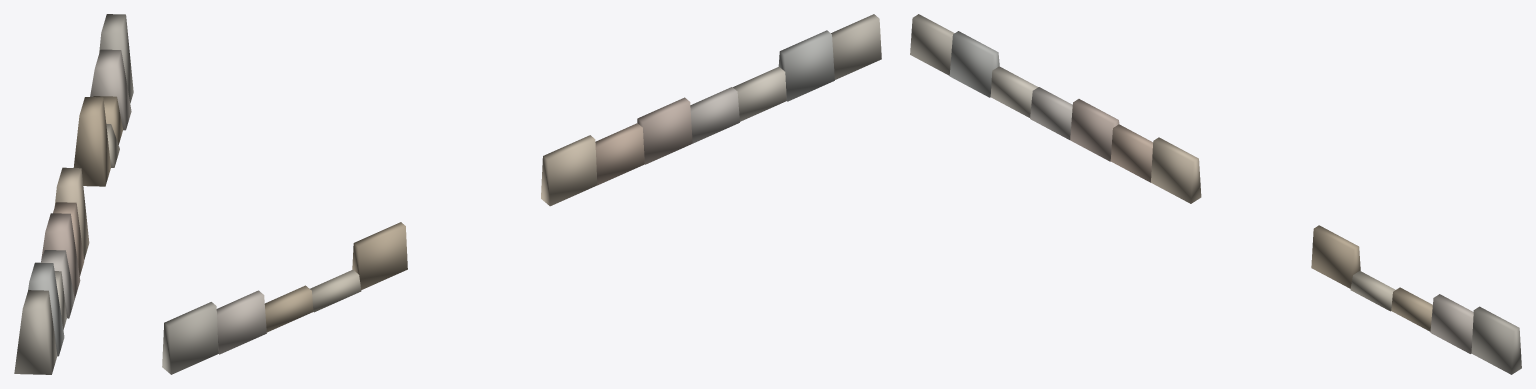
Rendered from farm_-36_-27_collision.glb.
The picture shows the model from 3 angles, left to right: view 1: azimuth 30°, elevation 25°; view 2: azimuth 150°, elevation 25°; view 3: azimuth 270°, elevation 25°; orthographic projection. The views are drawn at different scales.
Parts seen in each view (by area): view 1: geometry_0; view 2: geometry_0; view 3: geometry_0.
Part boxes in pixels (x1,y1,x2,y2): geometry_0: [14, 14, 133, 374]; geometry_0: [162, 14, 881, 374]; geometry_0: [910, 14, 1521, 374].
Bounding box in the file's own units: 13.53 × 6.72 × 19.93.
